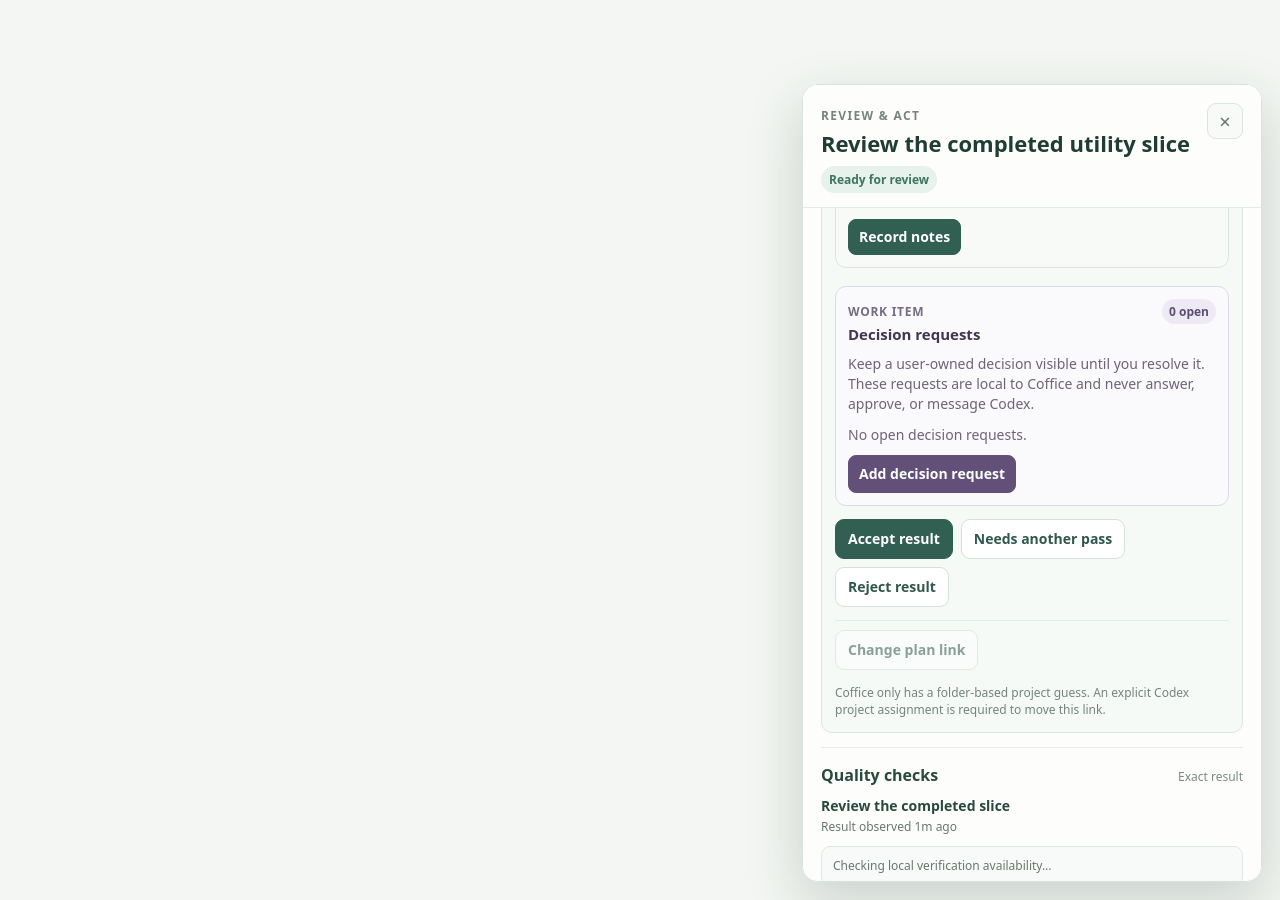
Scenario: Review & Act dialog interaction › keeps an accepted decision authoritative when its Attention receipt is not saved
This screenshot has width=1280, height=900.
(page scrolled)
Click the button "Accept result".
click(894, 539)  # box [835, 519, 953, 559]
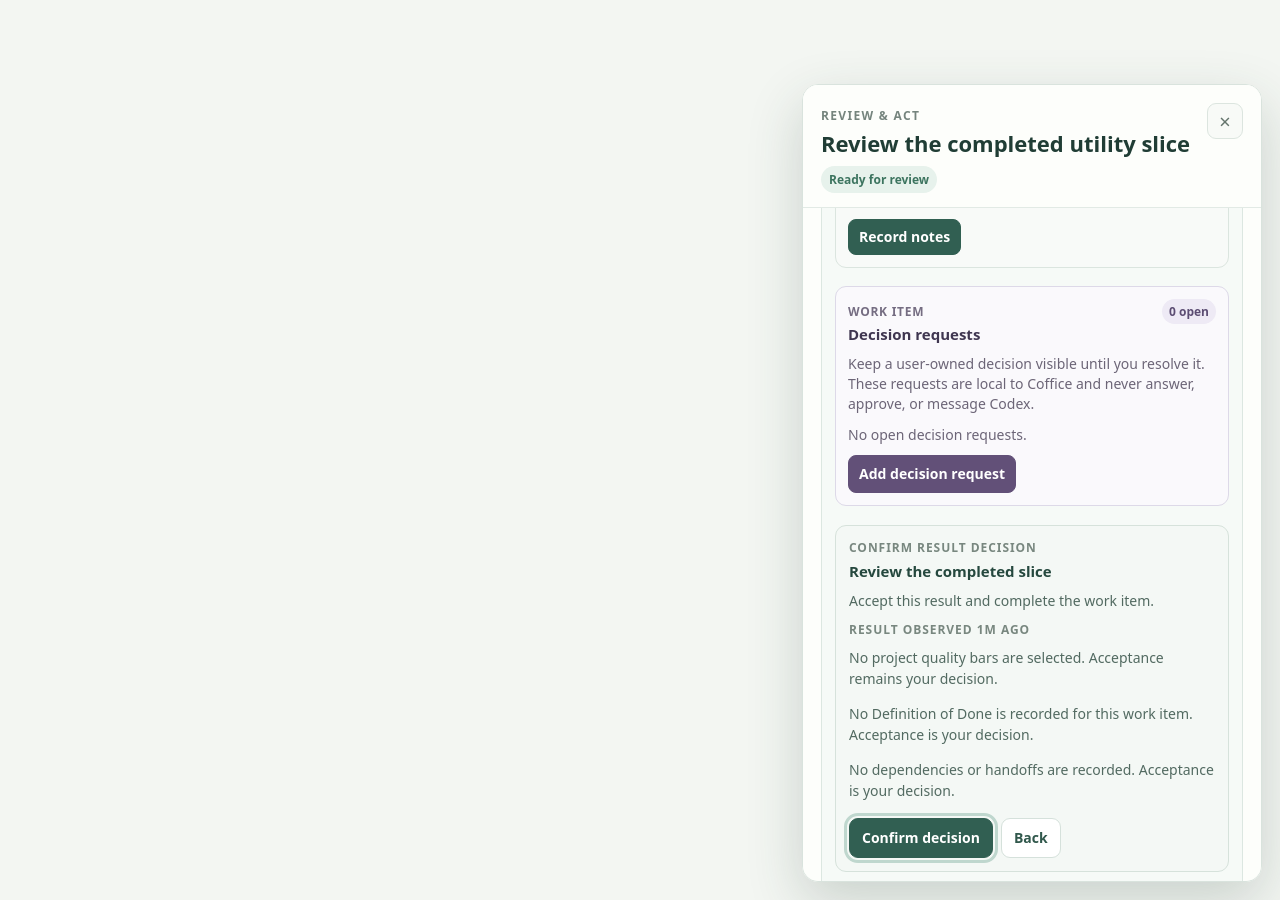
Click the button "Confirm decision".
click(921, 838)  # box [849, 818, 993, 858]
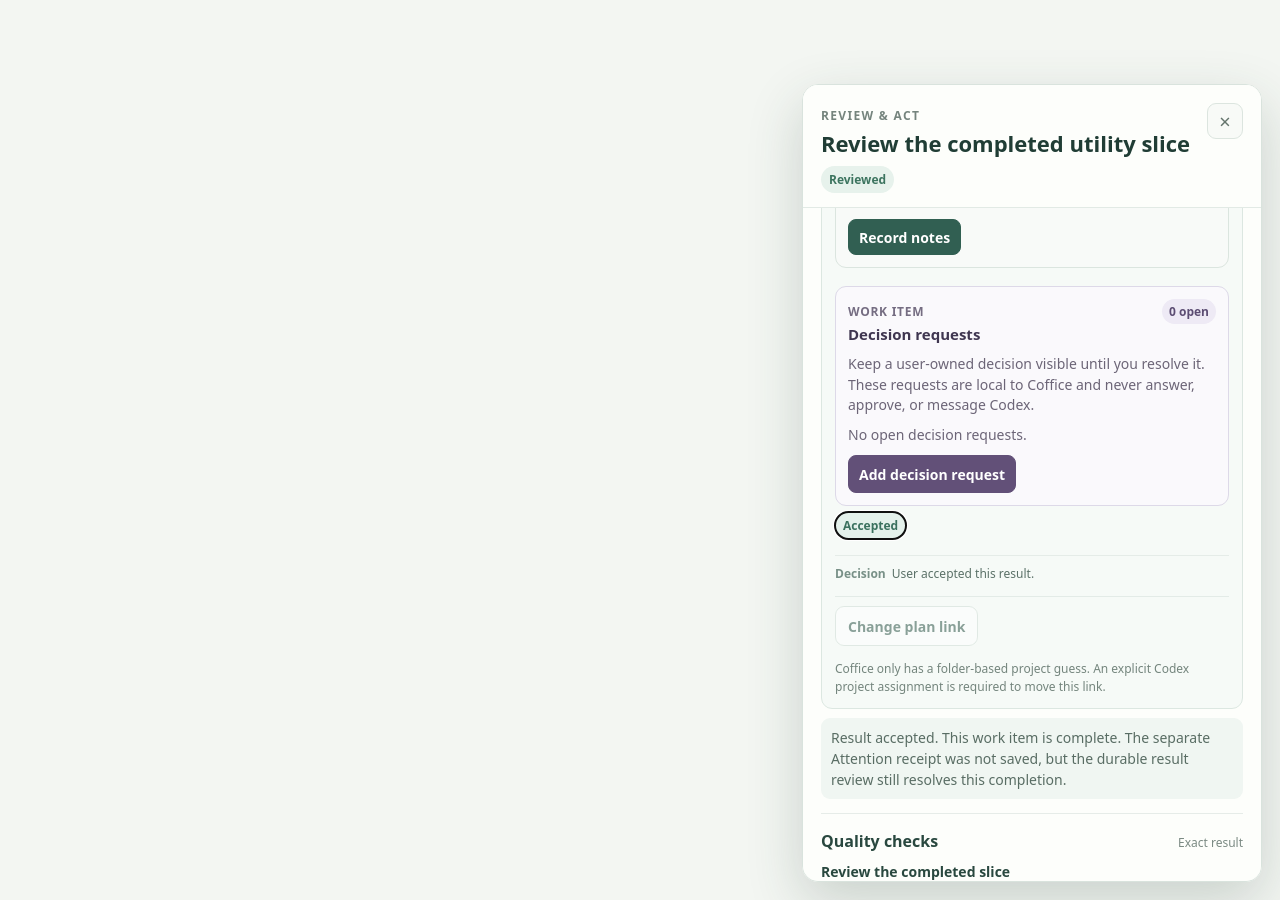
Expected: the message "accepted" is shown, [835, 512, 906, 539]
Expected: the text "The separate Attention receipt was not saved, but the durable result review still resolves this completion." is shown, [831, 728, 1210, 789]
